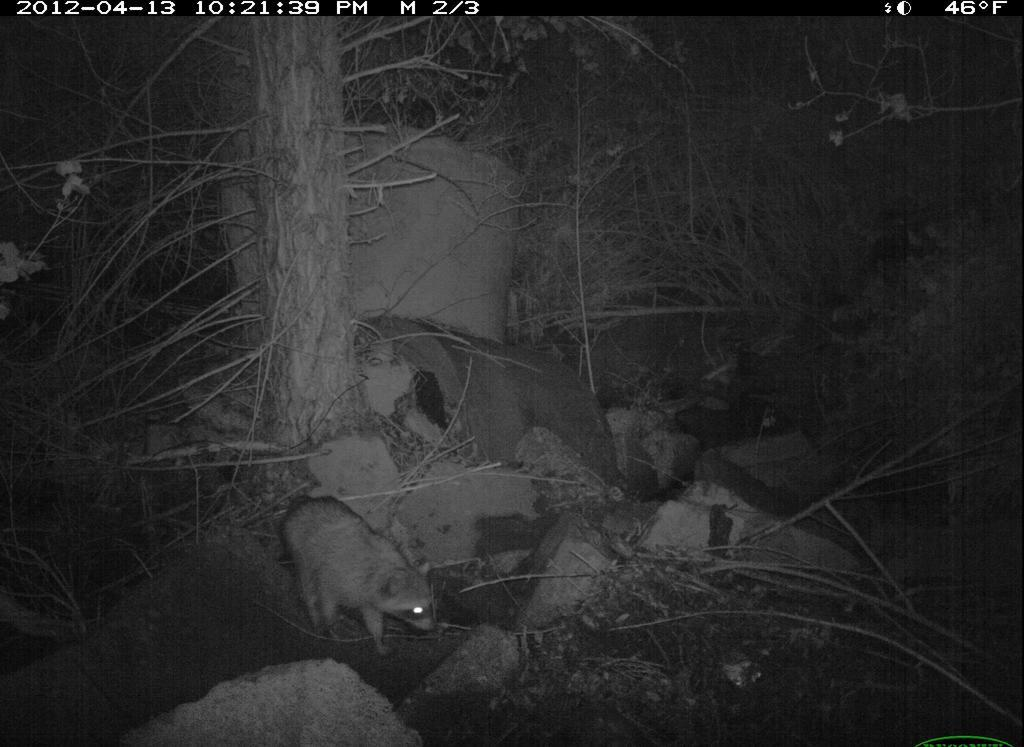raccoon: (267, 484, 446, 660)
